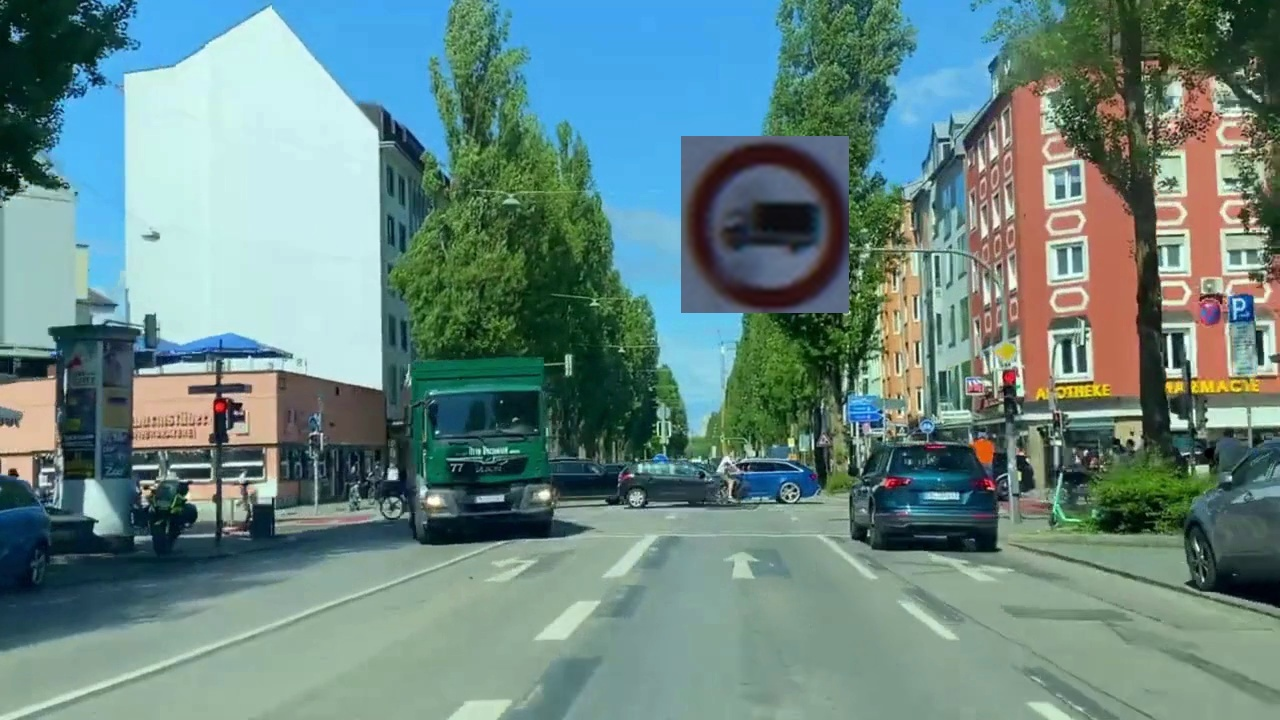Veh >3.5t prohib: (681, 136, 849, 313)
